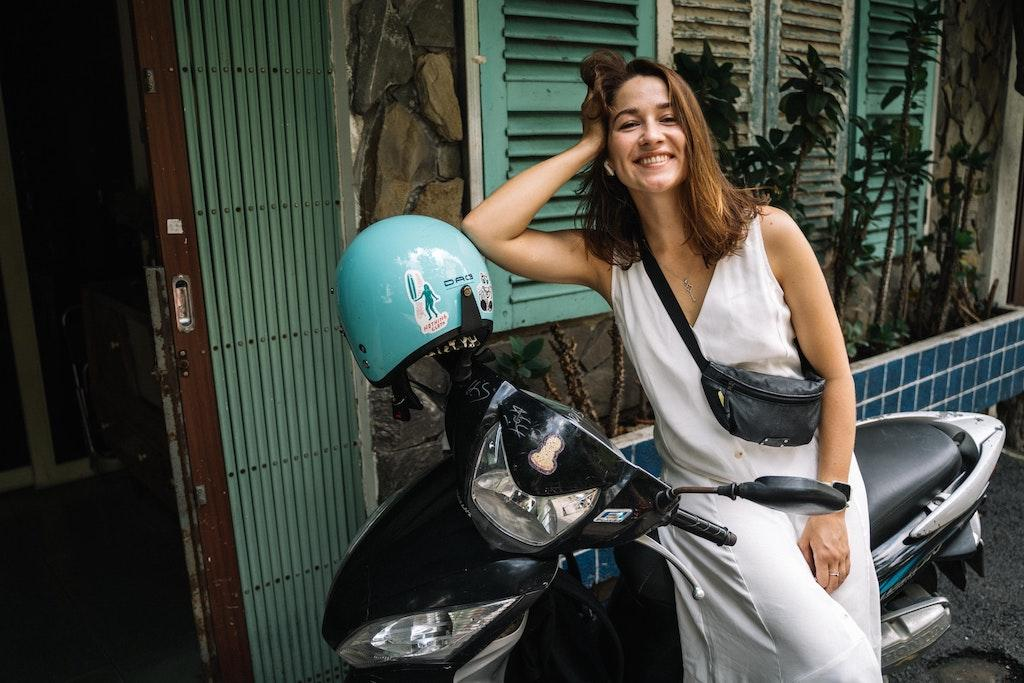helmet: (329, 213, 495, 423)
nohelmet: (579, 47, 720, 227)
